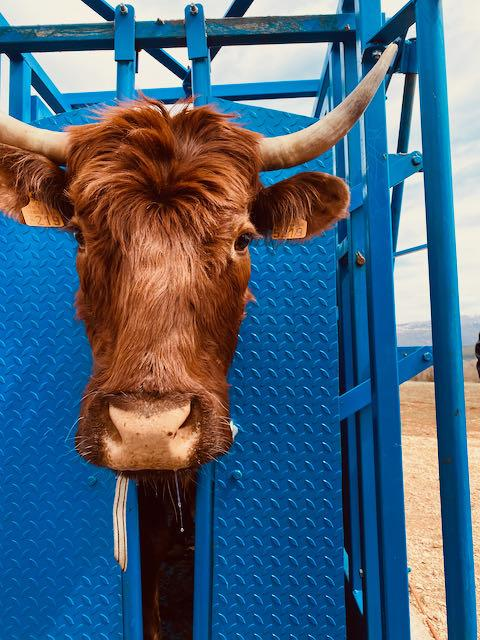muzzles: (74, 390, 231, 485)
